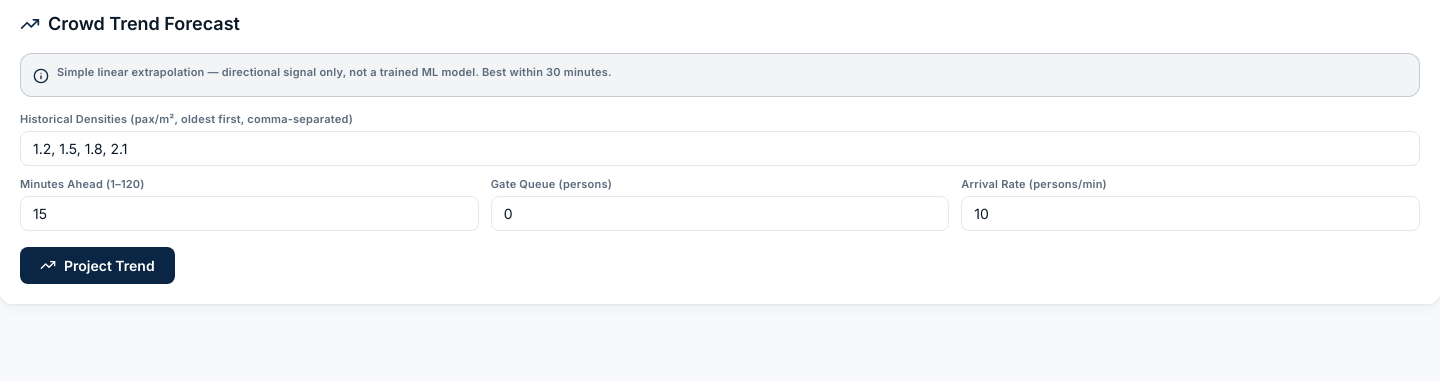
Test case: PredictionPanel › displays error message on fetch failure
Note: Default is '1.2, 1.5, 1.8, 2.1', which is valid (4 readings)
Click the button "Project Trend" at (97, 265), box x1=20 y1=246 x2=175 y2=284
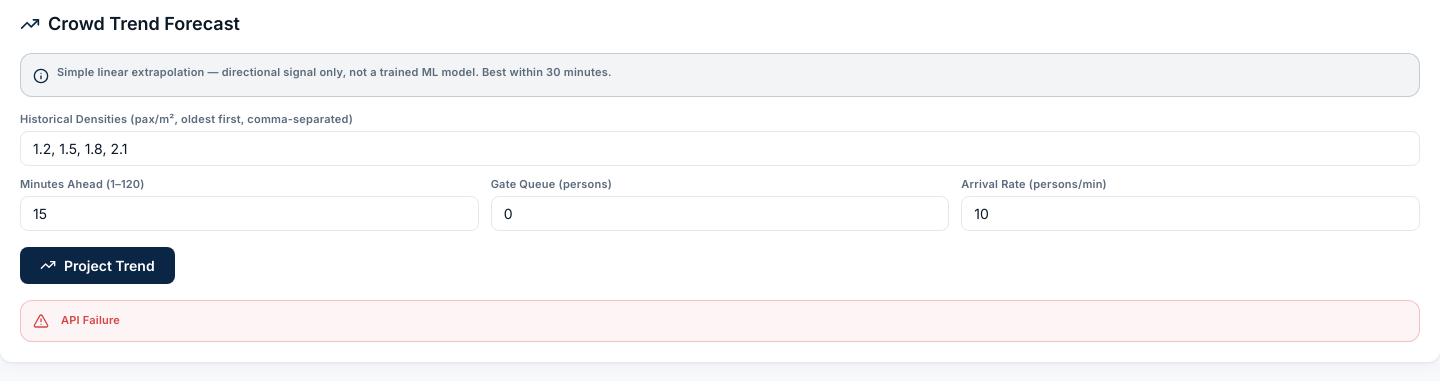
Now the text "API Failure" is shown, box x1=61 y1=314 x2=120 y2=327
